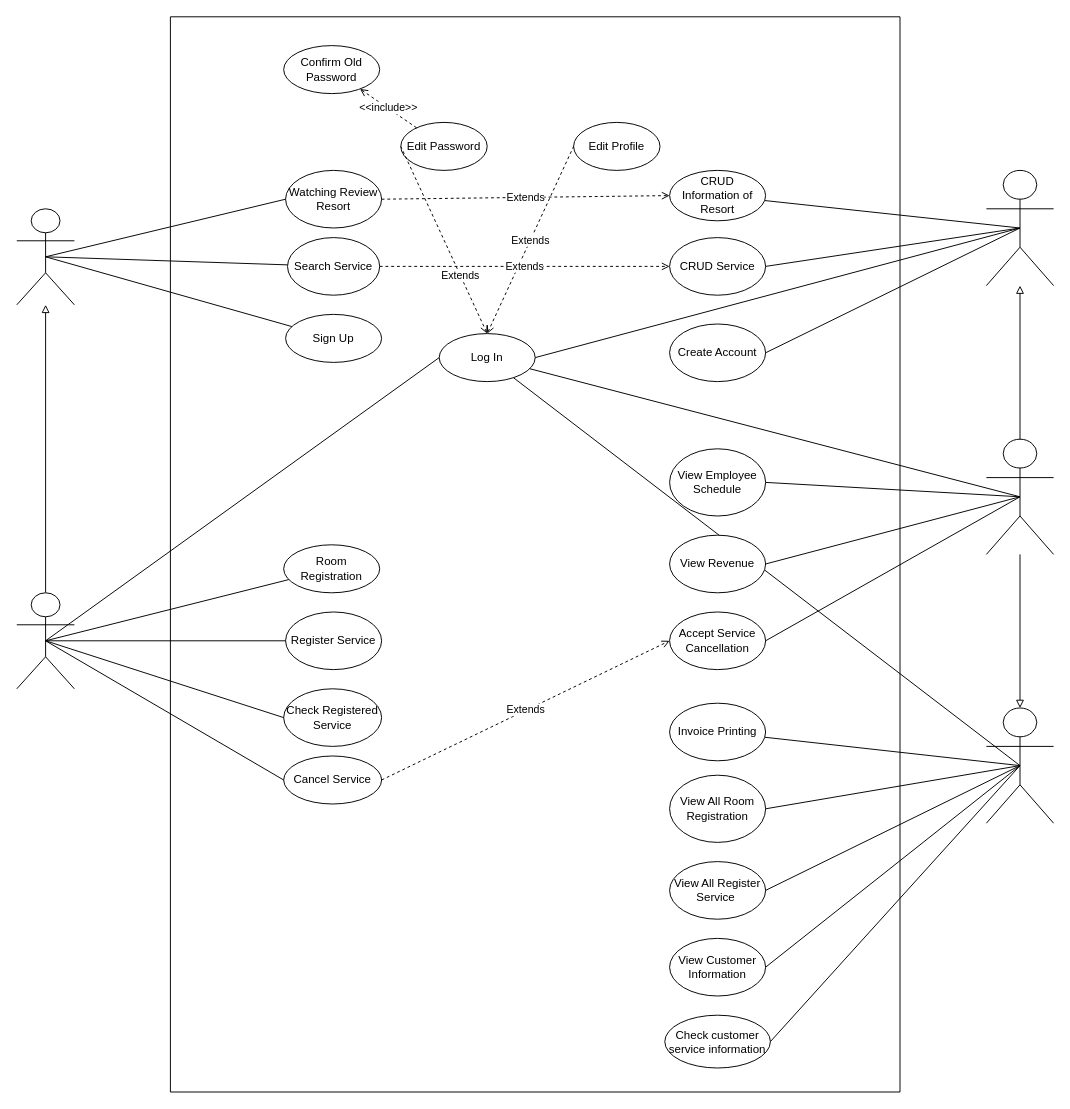
This 1070x1109 diagram has some shape labels left out. Each missing label, with the centre of its shape:
Admin: (1019,227)
Customer: (45,640)
Employee: (1019,765)
Guest: (45,256)
Manager: (1019,496)
